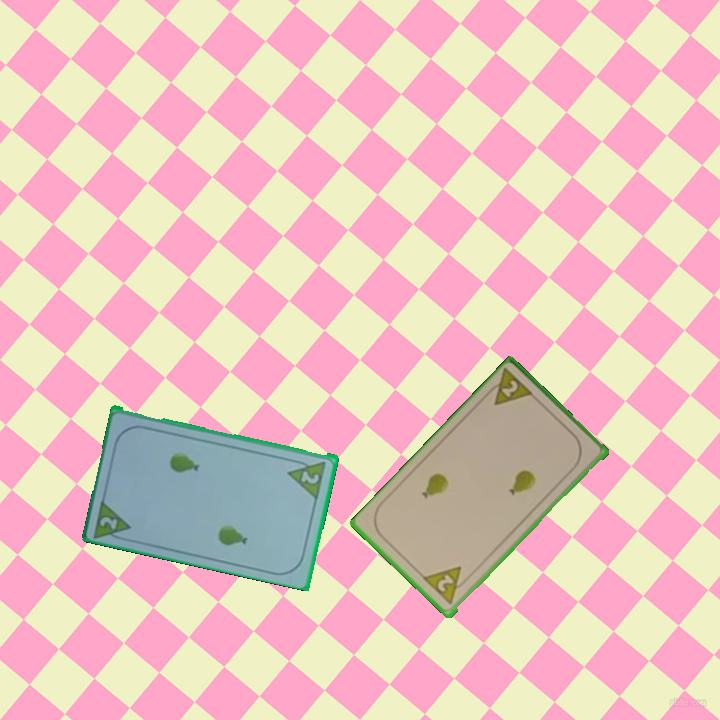2p: (420, 563, 472, 607), (90, 495, 134, 544), (498, 376, 521, 401), (298, 466, 322, 487)
